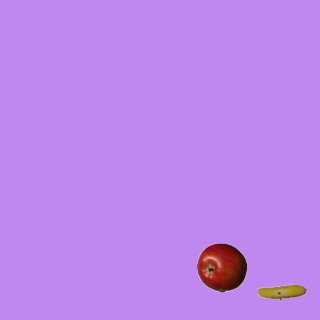Apple Braeburn: (196, 242, 246, 292)
Banana: (256, 267, 306, 317)
